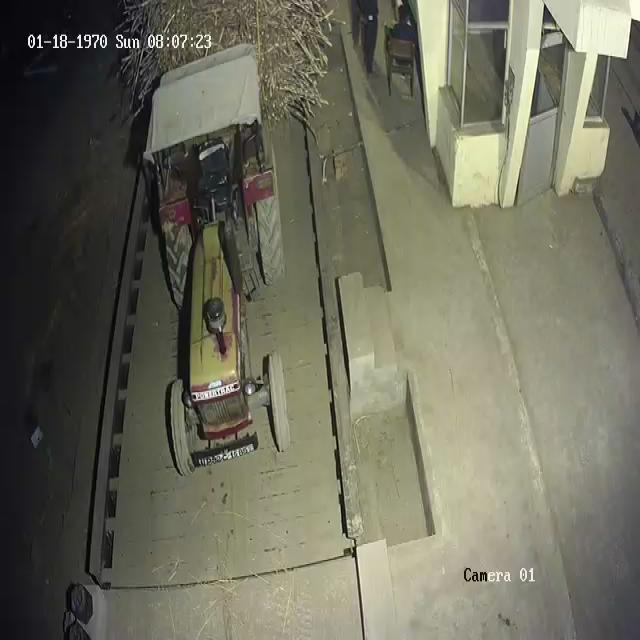Tratores - v5 YOLO V8L 2024-11-13: (151, 70, 290, 477)
